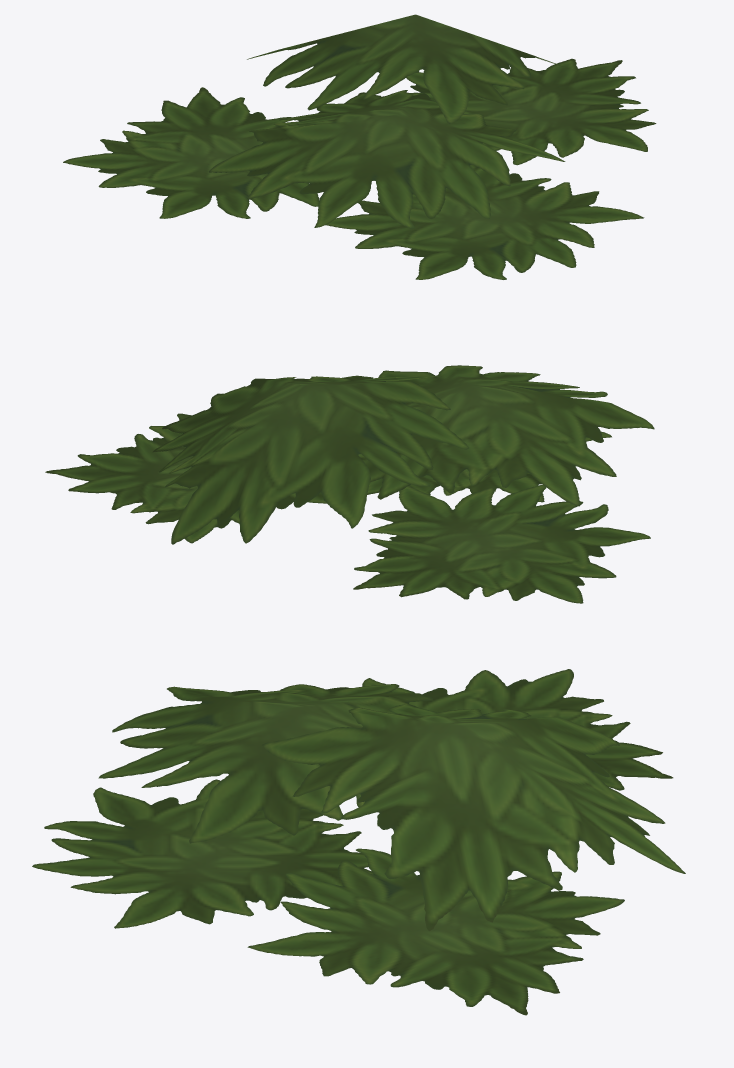
Rendered from Bush_2_1.fbx.
3 views of the same model, one above another, from view 1: azimuth 30°, elevation 25°; view 2: azimuth 150°, elevation 25°; view 3: azimuth 270°, elevation 25° (orthographic). The views are drawn at different scales.
Visible parts, largest first — view 1: Bush_2_1; view 2: Bush_2_1; view 3: Bush_2_1.
Part boxes in pixels (bbox=[...]): Bush_2_1: bbox=[63, 14, 656, 279]; Bush_2_1: bbox=[45, 365, 654, 603]; Bush_2_1: bbox=[32, 669, 685, 1015].
Bounding box in the file's own units: 327 × 61.93 × 265.
